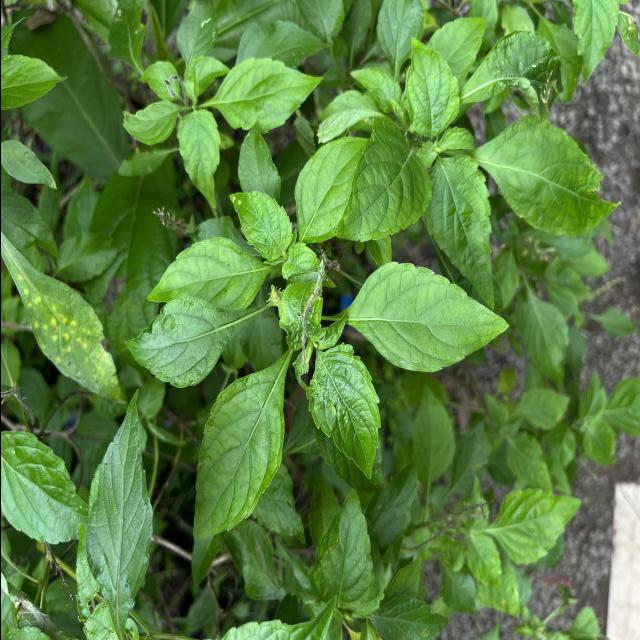Ocimum gratissimum: (458, 112, 623, 240), (330, 259, 512, 375), (184, 360, 294, 547), (82, 383, 154, 640), (122, 290, 272, 391), (329, 114, 432, 246), (302, 340, 382, 482), (143, 235, 280, 314), (0, 425, 85, 549), (402, 36, 461, 139), (223, 187, 292, 262)
